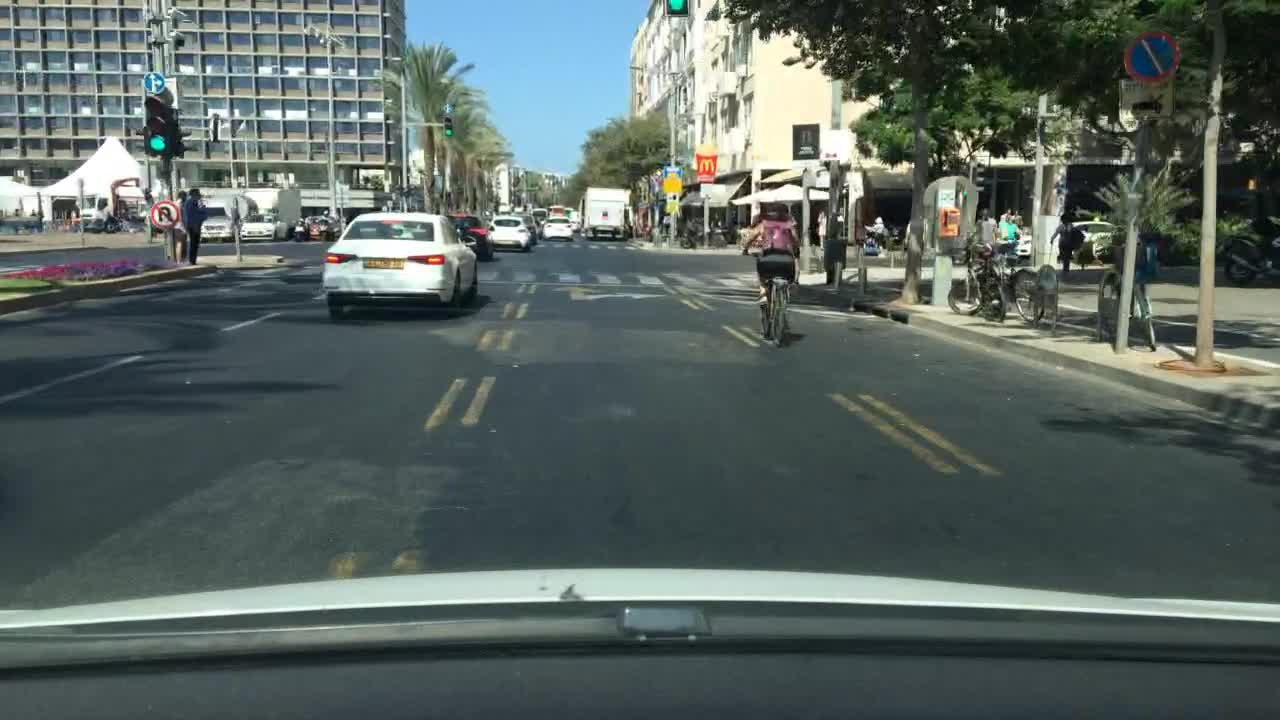bike: (737, 234, 808, 342), (1092, 269, 1159, 349), (1220, 210, 1278, 283), (978, 264, 1044, 323), (948, 258, 1006, 322), (676, 216, 727, 244)
car: (321, 212, 479, 317), (1052, 220, 1117, 267), (449, 212, 493, 261), (485, 212, 531, 250), (67, 209, 121, 232), (509, 212, 539, 242), (544, 216, 573, 241), (306, 213, 332, 237), (1013, 233, 1033, 258), (530, 215, 544, 239), (531, 207, 547, 220), (122, 224, 145, 233), (569, 219, 582, 234), (565, 204, 577, 219), (547, 207, 563, 218)
motor: (295, 217, 307, 241)
person: (185, 187, 208, 268), (1048, 213, 1076, 270), (176, 190, 190, 272), (979, 208, 998, 242), (817, 212, 828, 252), (874, 216, 886, 252), (894, 223, 905, 247), (662, 212, 672, 235), (1014, 208, 1022, 231), (638, 220, 647, 239), (1004, 205, 1013, 223), (649, 218, 657, 238)
rider: (746, 201, 802, 319)
traffic light: (145, 95, 165, 160), (170, 118, 193, 157), (662, 0, 690, 19), (442, 114, 454, 140)
traffic sign: (1126, 32, 1178, 79), (1117, 82, 1170, 121), (817, 132, 856, 160), (150, 200, 180, 228), (939, 208, 961, 236), (142, 72, 165, 92), (845, 170, 862, 197), (665, 165, 682, 191), (938, 191, 954, 207), (663, 198, 680, 213), (816, 169, 830, 187), (808, 189, 827, 199), (700, 183, 710, 197), (650, 174, 657, 185)
truck: (236, 185, 302, 243), (183, 186, 234, 244), (581, 188, 628, 237)
